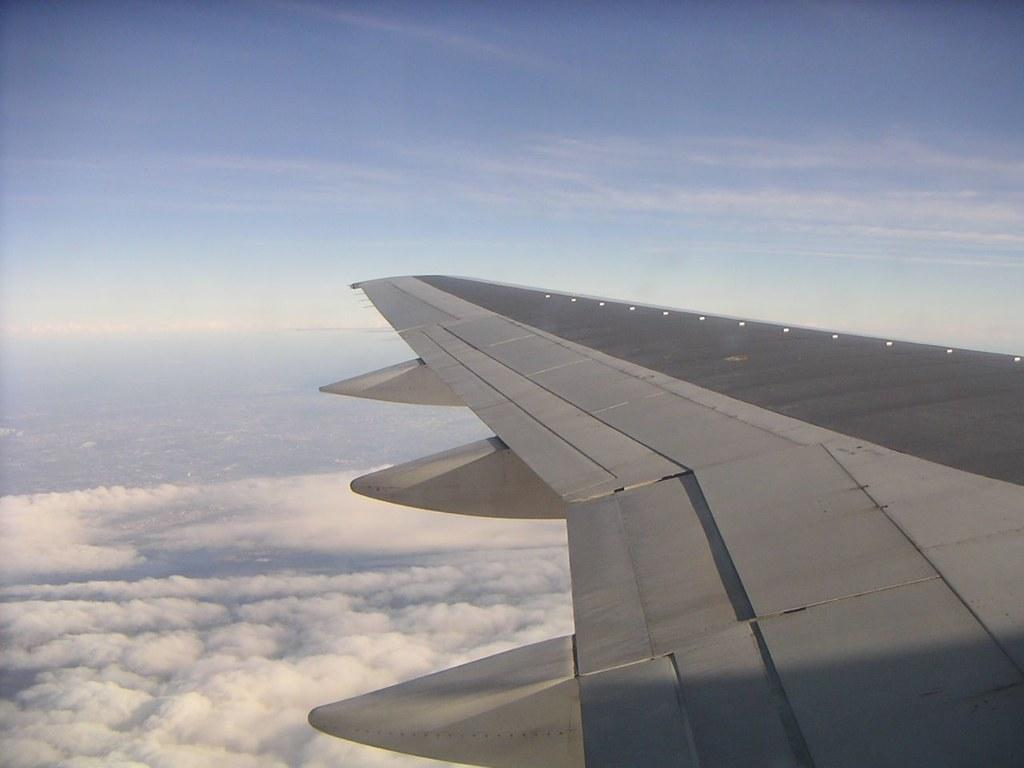plane: (307, 273, 1023, 767)
